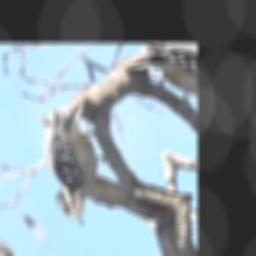Woodpecker: (4, 92, 151, 232)
